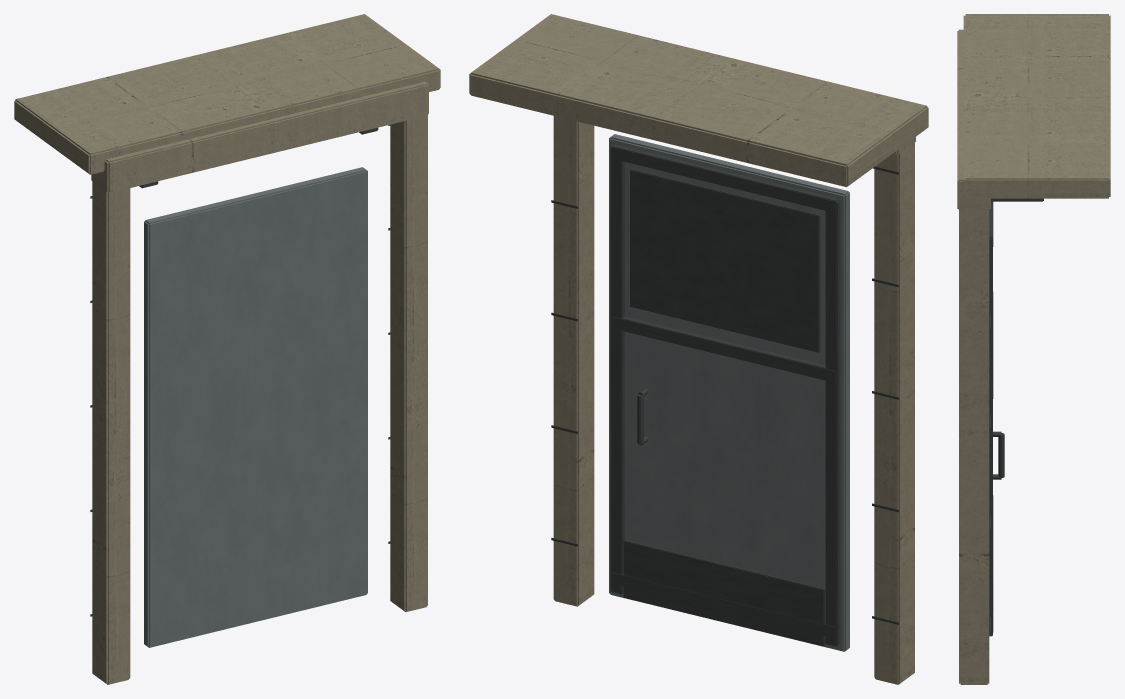
Rendered from EntranceSurround.fbx.
3 renders of one model, left to right at view 1: azimuth 30°, elevation 25°; view 2: azimuth 150°, elevation 25°; view 3: azimuth 270°, elevation 25°, orthographic. The views are drawn at different scales.
Visible parts, largest first — view 1: EntranceSurround; view 2: EntranceSurround; view 3: EntranceSurround.
Boxes of the visible parts, x1,y1,x2,y2 form: EntranceSurround: (14, 14, 440, 684); EntranceSurround: (469, 14, 928, 684); EntranceSurround: (957, 14, 1110, 684).
Size of the model in its own units: 208 by 301 by 81.5.
